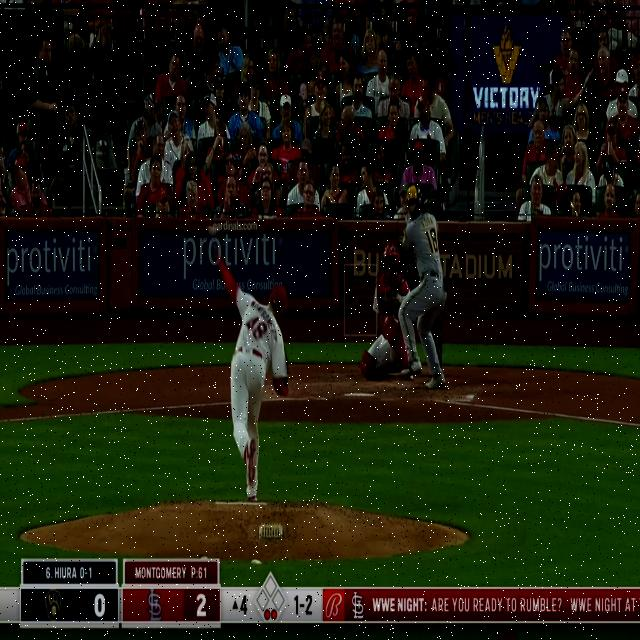baseball: (207, 223, 219, 240)
